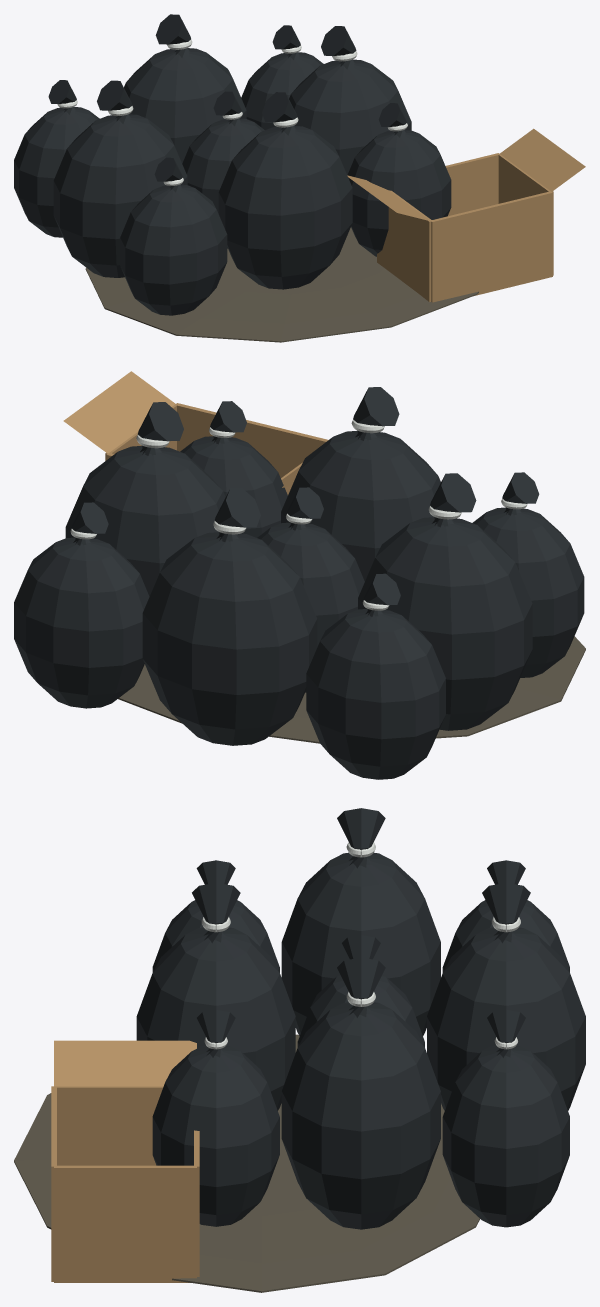
The model's file is CLN_TRASH_PILE_LARGE_01.fbx.
3 renders of one model, top to bottom at view 1: azimuth 30°, elevation 25°; view 2: azimuth 150°, elevation 25°; view 3: azimuth 270°, elevation 25°, orthographic. The views are drawn at different scales.
Parts seen in each view (by area): view 1: CLN_TRASH_PILE_LARGE_01; view 2: CLN_TRASH_PILE_LARGE_01; view 3: CLN_TRASH_PILE_LARGE_01.
Boxes of the visible parts, x1,y1,x2,y2 form: CLN_TRASH_PILE_LARGE_01: [14, 14, 585, 342]; CLN_TRASH_PILE_LARGE_01: [14, 371, 585, 779]; CLN_TRASH_PILE_LARGE_01: [14, 808, 585, 1292].
Size of the model in its own units: 144 by 64.39 by 126.
